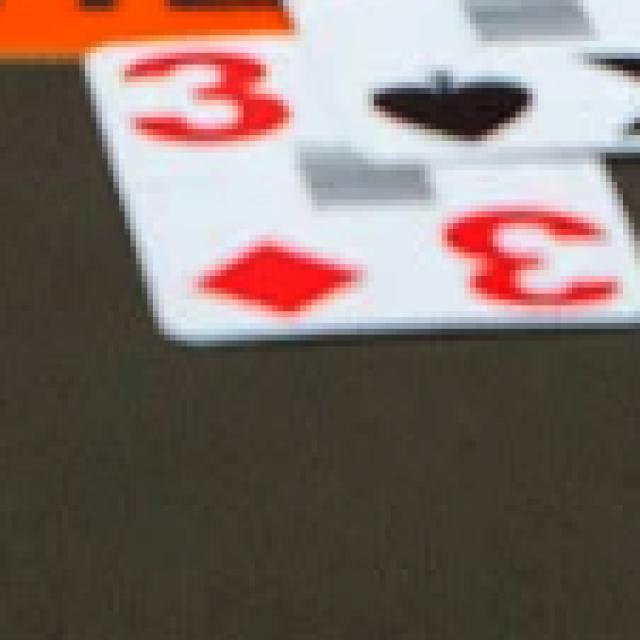Card-3: (88, 42, 638, 340)
